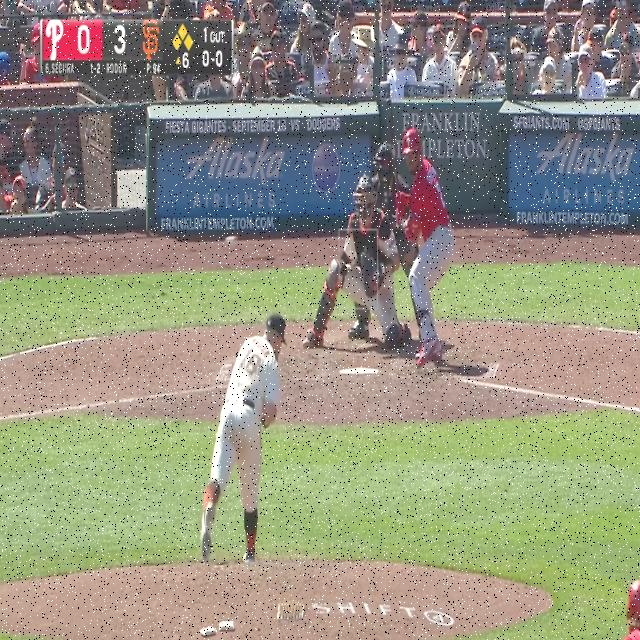baseball: (225, 234, 237, 250)
